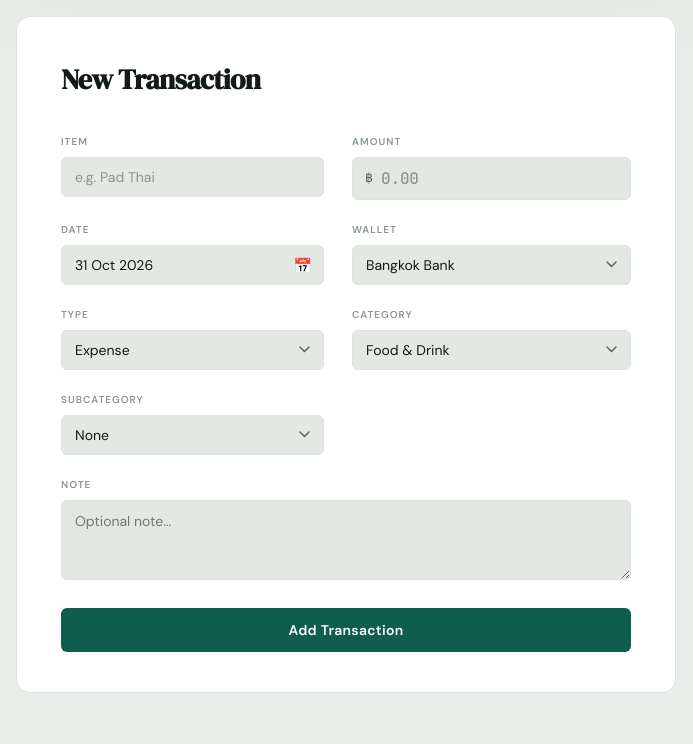
Scenario: shows error message on submit failure
Type "Food" into the field labelled "Item" at [192, 177], box x1=61 y1=157 x2=324 y2=197
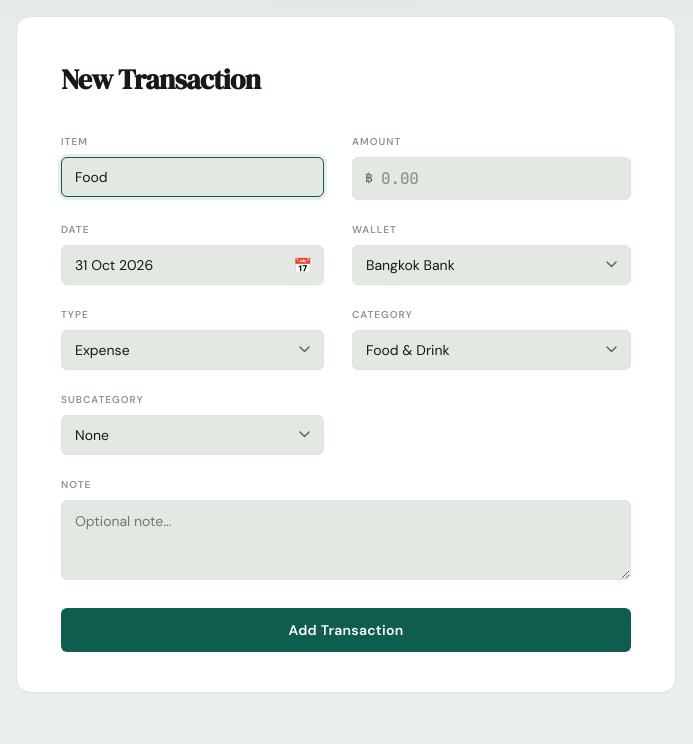
Type "150" into the number field labelled "Amount" at [492, 178], box x1=352 y1=157 x2=631 y2=200
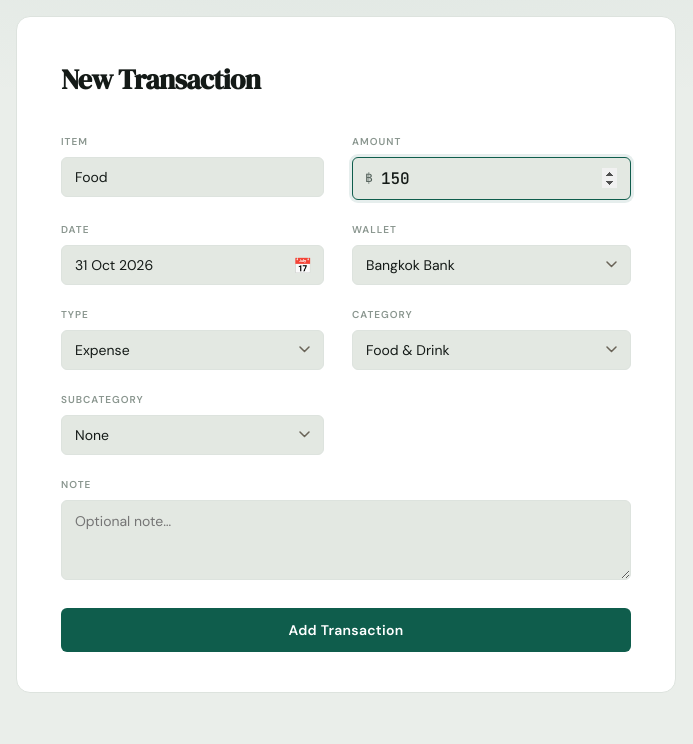
Click the button "Add Transaction" at [346, 630], box x1=61 y1=608 x2=631 y2=652
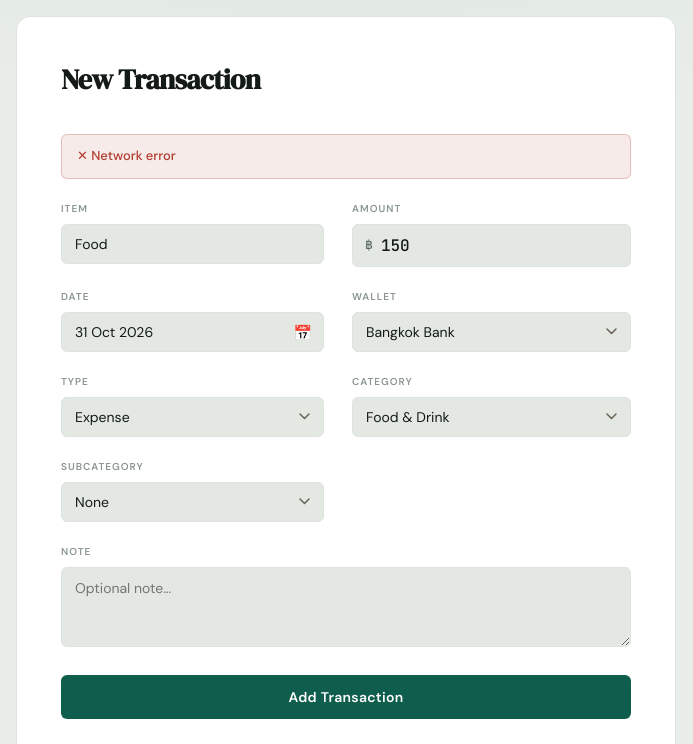
Expected: the message shows "Network error", x1=91 y1=147 x2=176 y2=164
